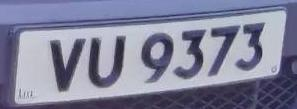3: (235, 19, 267, 79), (175, 24, 206, 83)
7: (207, 22, 243, 79)
9: (140, 25, 177, 87)
U: (84, 33, 132, 93)
V: (43, 33, 91, 95)
